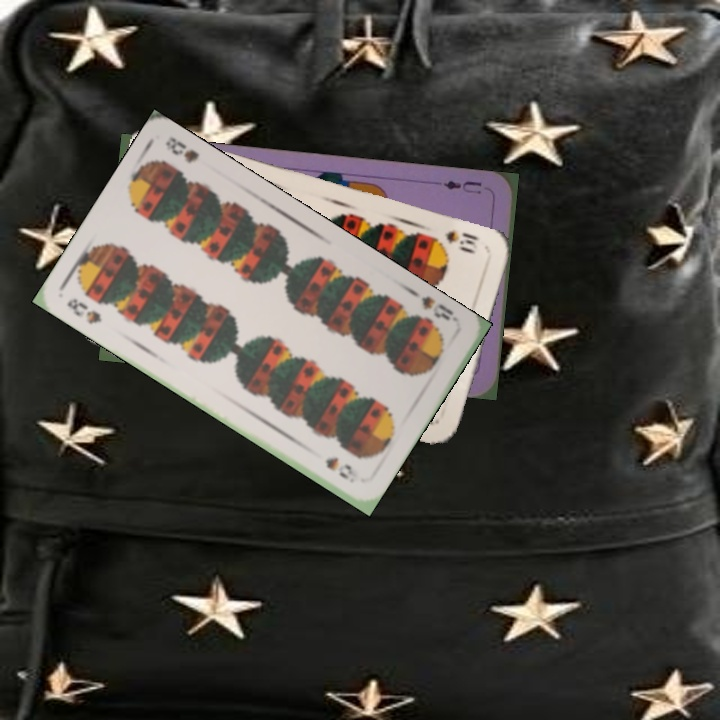EU: (439, 176, 484, 196)
S10: (440, 226, 480, 256)
S8: (417, 292, 463, 326), (62, 294, 105, 327)
